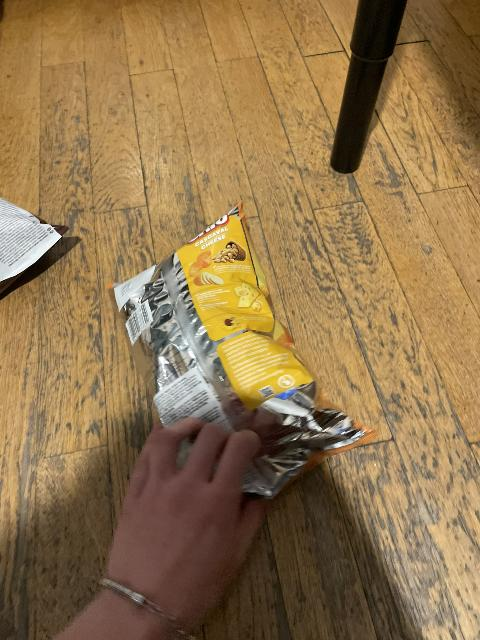Chio Cascaval 125g: (109, 200, 367, 485)
